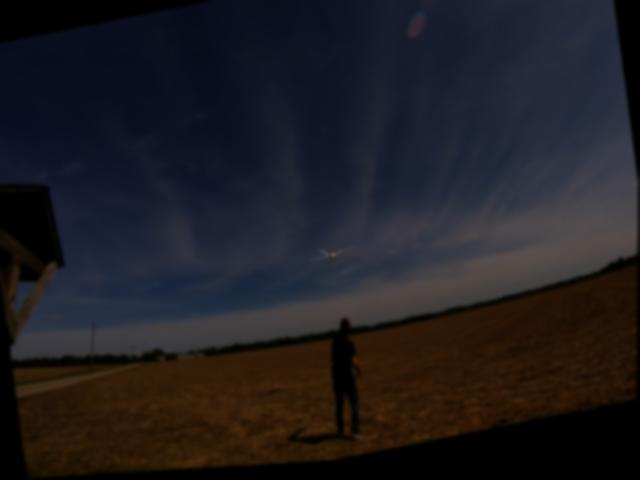plane: (311, 245, 355, 268)
